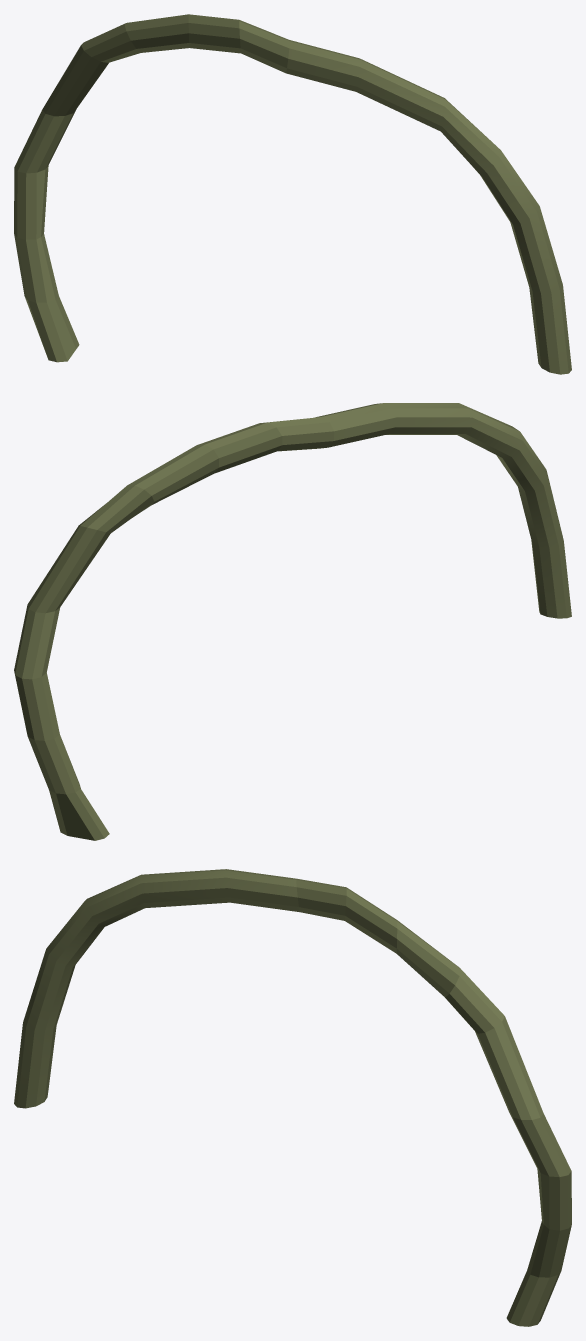
Rendered from shuteng1.fbx.
The picture shows the model from 3 angles, top to bottom: view 1: azimuth 90°, elevation 25°; view 2: azimuth 150°, elevation 25°; view 3: azimuth 270°, elevation 25°; orthographic projection. The views are drawn at different scales.
Parts seen in each view (by area): view 1: pTorus1; view 2: pTorus1; view 3: pTorus1.
Part boxes in pixels (x1,y1,x2,y2): pTorus1: (14,14,571,374); pTorus1: (14,403,571,840); pTorus1: (14,869,571,1326).
Size of the model in its own units: 2.72 by 3.23 by 4.31.
